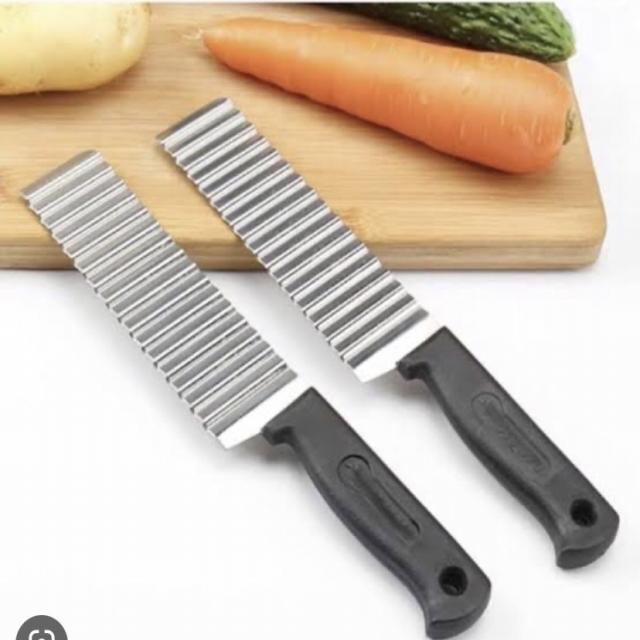Knife: (18, 93, 623, 640)
